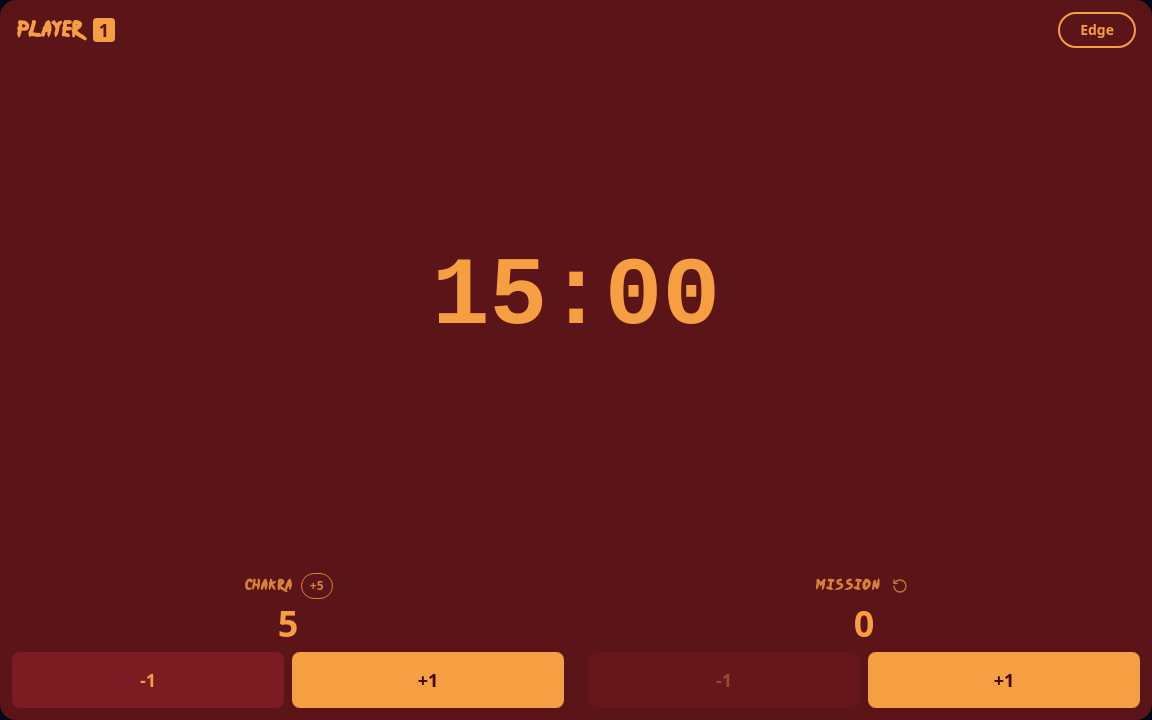
Test: PlayerPanel › the first tap starts the tapped player
Click the button with test id "tap-surface-0" at [69, 298], box left=0, top=48, right=1151, bottom=548
(page scrolled)
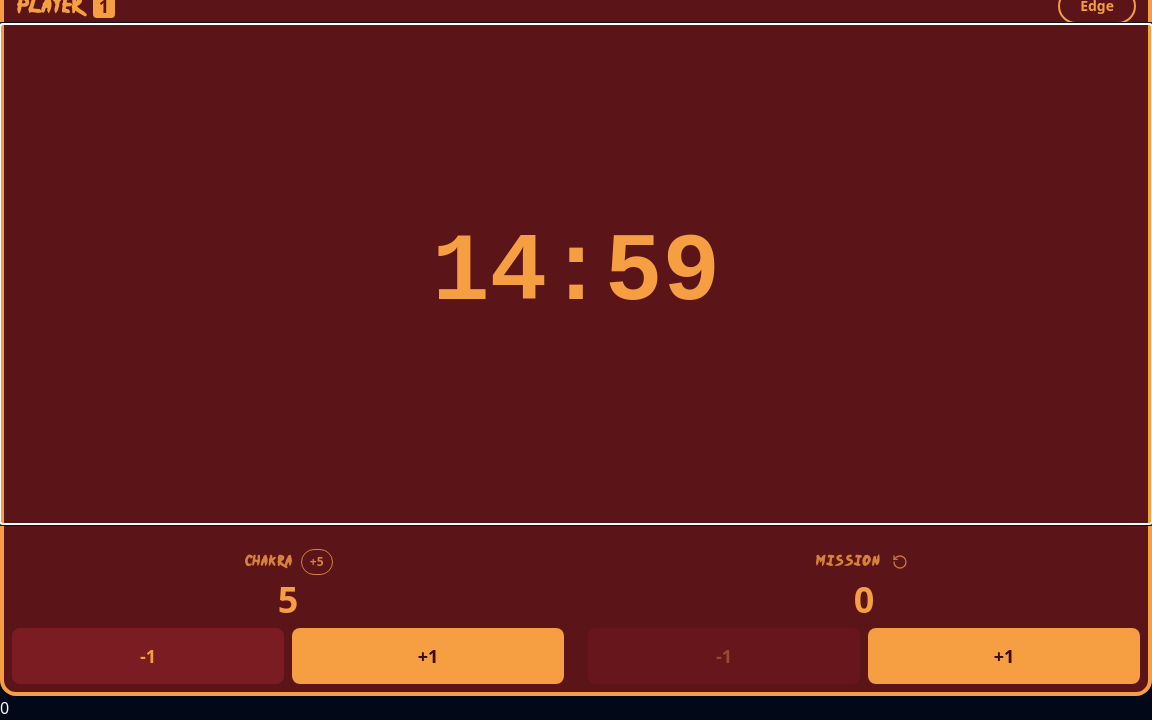
Expected: the text with test id "active" reads "0", left=0, top=697, right=9, bottom=719
